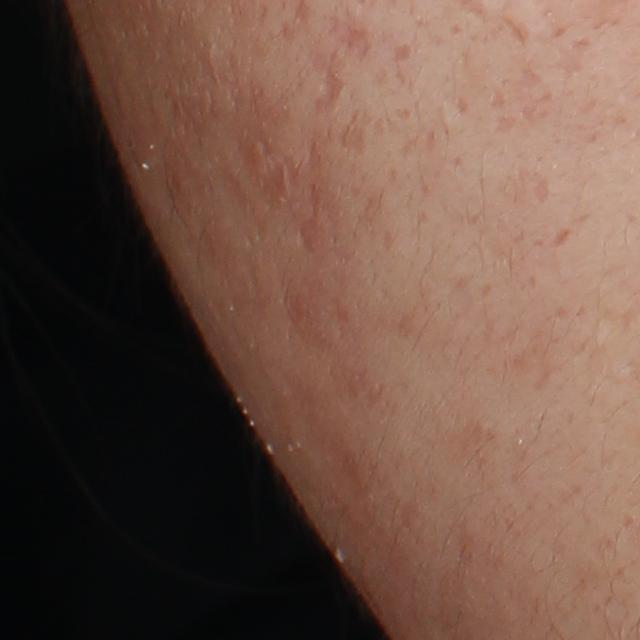atrophic_scar: (305, 40, 348, 121), (547, 36, 591, 93), (325, 13, 373, 63), (506, 57, 547, 93), (341, 114, 368, 154), (502, 17, 534, 50), (521, 89, 552, 119), (546, 225, 574, 252), (532, 175, 553, 204), (493, 114, 519, 135), (489, 87, 505, 111), (394, 44, 411, 62)
